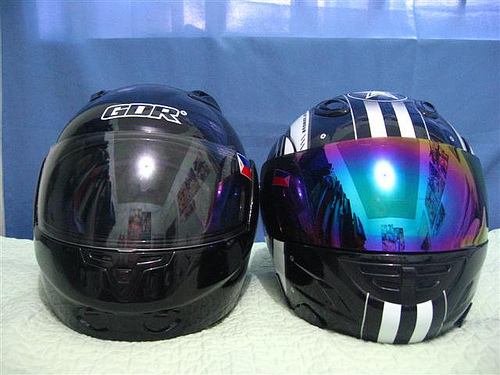helmet: (261, 96, 485, 330), (53, 100, 243, 321)
